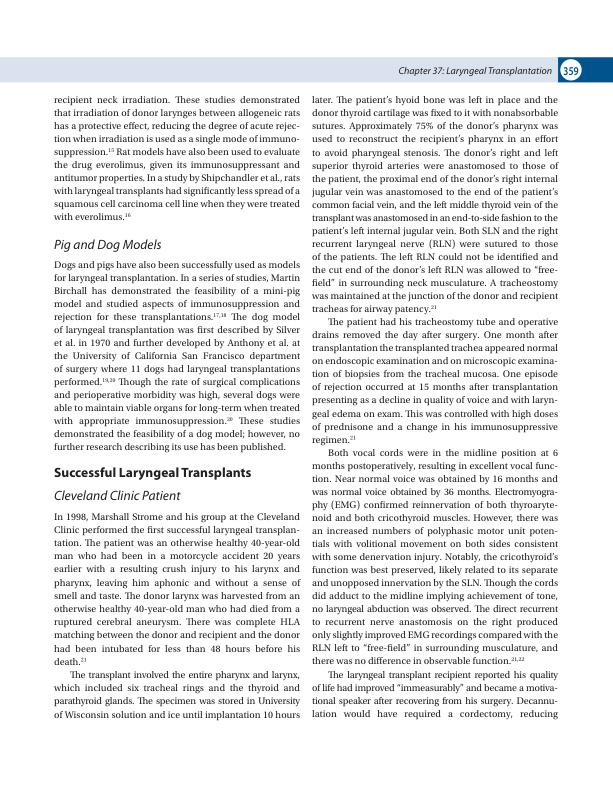header: (398, 66, 553, 77)
section-heading: (53, 467, 252, 481)
sub-section-heading: (53, 238, 161, 253), (54, 489, 182, 501)
text: (311, 94, 559, 721), (53, 512, 301, 722), (53, 260, 300, 453), (53, 94, 301, 221)
